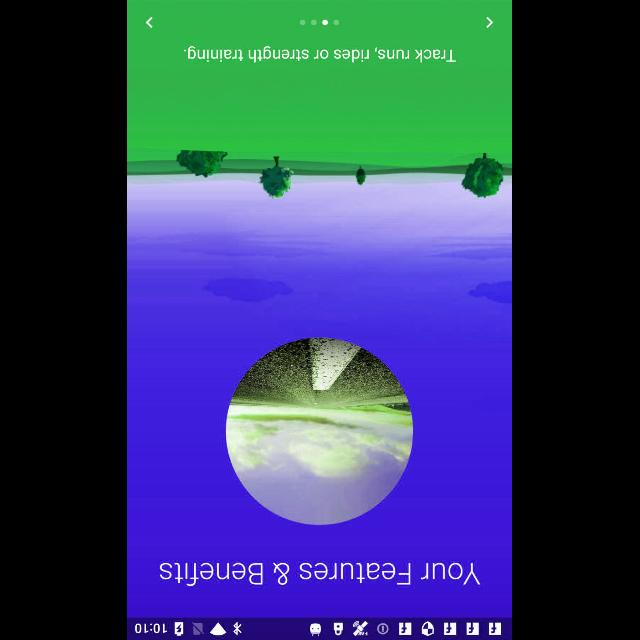backgroundimage: (128, 0, 512, 618)
icon: (146, 16, 154, 28), (486, 16, 494, 28)
image: (226, 337, 414, 525)
pageindicator: (300, 18, 340, 26)
text: (160, 562, 482, 586), (185, 46, 457, 62)
uppertaskbar: (128, 617, 512, 639)
